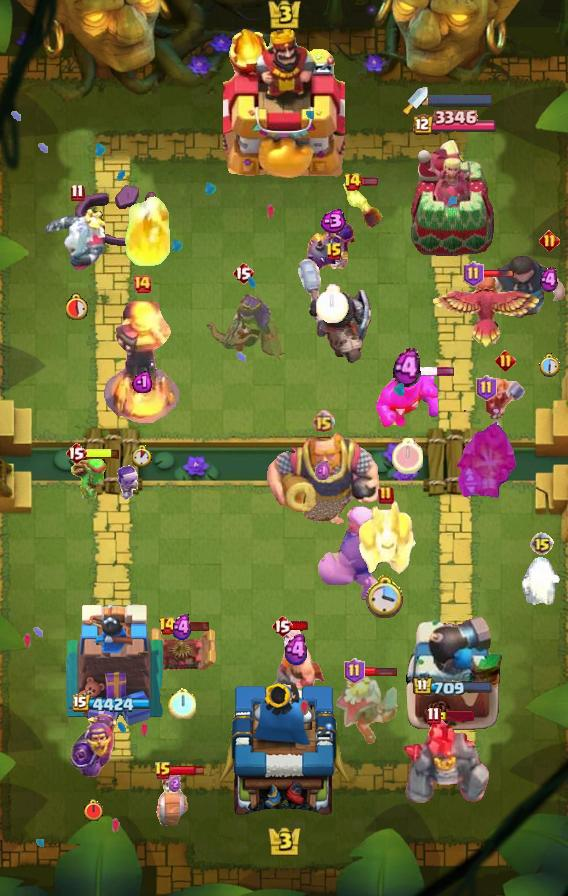balloon: (315, 504, 417, 604)
bar: (409, 138, 497, 256)
barbarian-hut: (201, 288, 285, 366)
bat: (521, 557, 563, 605)
bomber: (341, 182, 385, 228)
cannoneer-tower: (401, 716, 491, 806)
electro-dragon: (102, 298, 182, 426)
electro-spirit: (393, 348, 421, 388), (282, 634, 312, 666), (317, 209, 347, 233), (170, 615, 195, 642), (540, 267, 558, 293), (132, 370, 152, 393), (316, 460, 333, 482), (168, 776, 180, 792)
elixir: (366, 574, 406, 619), (315, 285, 349, 324), (393, 438, 423, 474), (168, 687, 196, 719), (67, 293, 90, 320), (538, 353, 560, 377), (83, 798, 105, 822), (132, 445, 152, 467)
elixir-golem-small: (356, 501, 416, 579)
emote: (403, 367, 456, 378), (170, 763, 206, 777), (85, 447, 121, 460), (173, 620, 210, 632), (362, 666, 398, 678), (438, 711, 474, 721), (481, 269, 515, 279), (290, 620, 310, 632), (360, 176, 379, 188)
firecracker-evolution: (69, 713, 119, 778)
giant-skeleton: (265, 427, 381, 527)
giant-snowball: (68, 454, 112, 502)
goblin: (115, 464, 139, 500)
goblin-ball: (305, 219, 359, 275)
goblin-brawler: (147, 625, 217, 675)
golden-knight: (429, 274, 541, 352)
hog-rider: (483, 376, 527, 426)
inferno-dragon: (293, 256, 375, 366), (453, 400, 519, 502)
king-tower: (219, 678, 349, 826), (223, 27, 345, 181)
king-tower-bar: (428, 93, 492, 106)
knight: (152, 771, 196, 829)
mighty-miner: (268, 625, 326, 697)
mortar-evolution: (334, 671, 402, 745), (45, 204, 109, 276)
queen-tower: (61, 599, 166, 731)
royal-hog: (482, 253, 568, 329)
selected: (410, 111, 496, 138), (412, 676, 494, 698), (73, 693, 155, 714)
text: (530, 532, 554, 556), (463, 261, 485, 287), (313, 410, 336, 434), (476, 375, 497, 401), (343, 658, 364, 684), (232, 261, 254, 285), (65, 441, 87, 465), (271, 614, 293, 638), (540, 229, 561, 251), (495, 350, 517, 371), (132, 274, 152, 294), (342, 172, 361, 192), (159, 616, 178, 636), (325, 242, 343, 262), (154, 761, 172, 781), (378, 485, 394, 505), (427, 707, 442, 725), (71, 183, 85, 202)
tornado: (376, 368, 438, 428)
tower-bar: (402, 615, 504, 731)
valkyrie: (122, 195, 176, 271)
